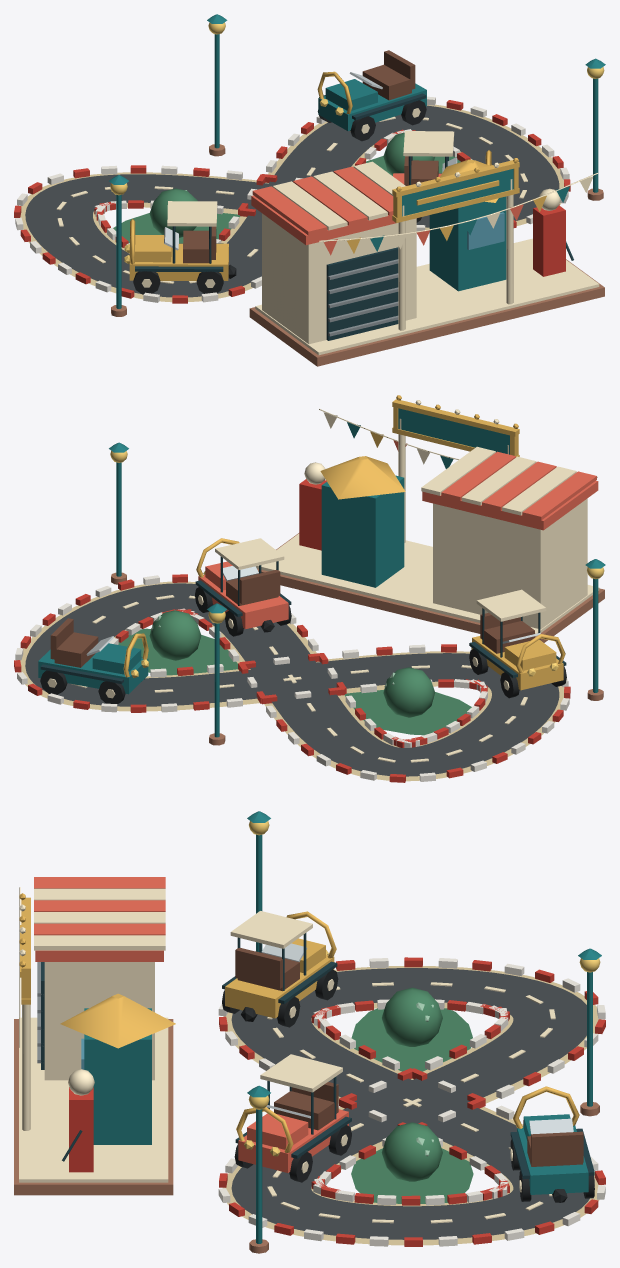
The model's file is ride_vintage.glb.
3 views of the same model, one above another, from view 1: azimuth 30°, elevation 25°; view 2: azimuth 150°, elevation 25°; view 3: azimuth 270°, elevation 25° (orthographic). The views are drawn at different scales.
Visible parts, largest first — view 1: ride_vintage; view 2: ride_vintage; view 3: ride_vintage.
Part boxes in pixels (x1,y1,x2,y2): ride_vintage: [14, 14, 605, 366]; ride_vintage: [14, 395, 605, 782]; ride_vintage: [14, 811, 605, 1253].
Size of the model in its own units: 10.95 by 3.34 by 9.66.
